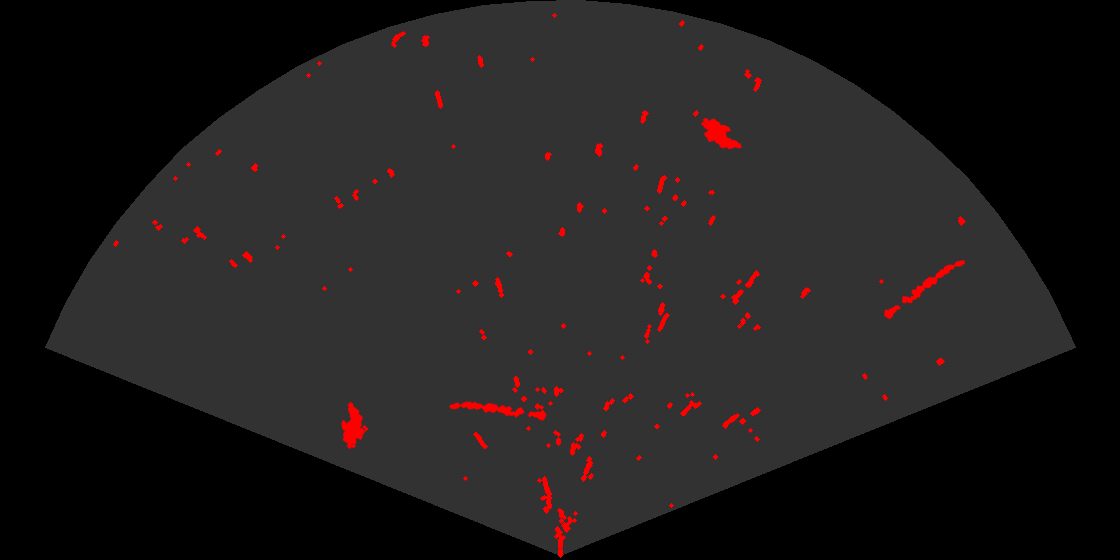AUV: (700, 116, 743, 151), (340, 400, 366, 451)
chain: (882, 258, 967, 321), (447, 400, 549, 422)
